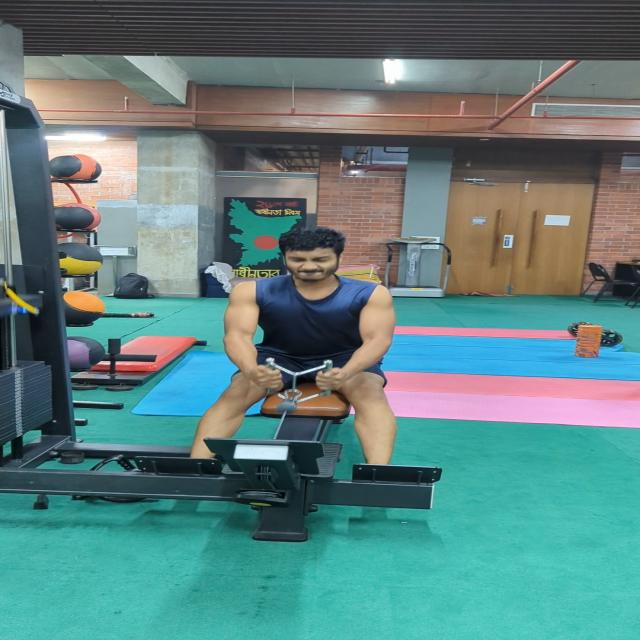Normal_RowingMachineExercise: (189, 225, 398, 467)
